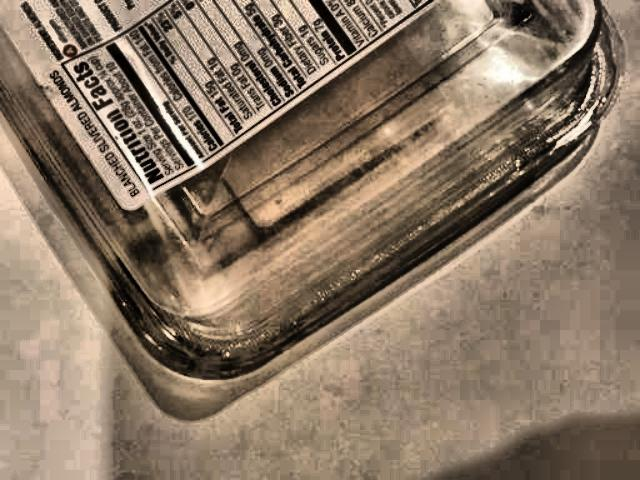Plastic: (0, 0, 640, 469)
